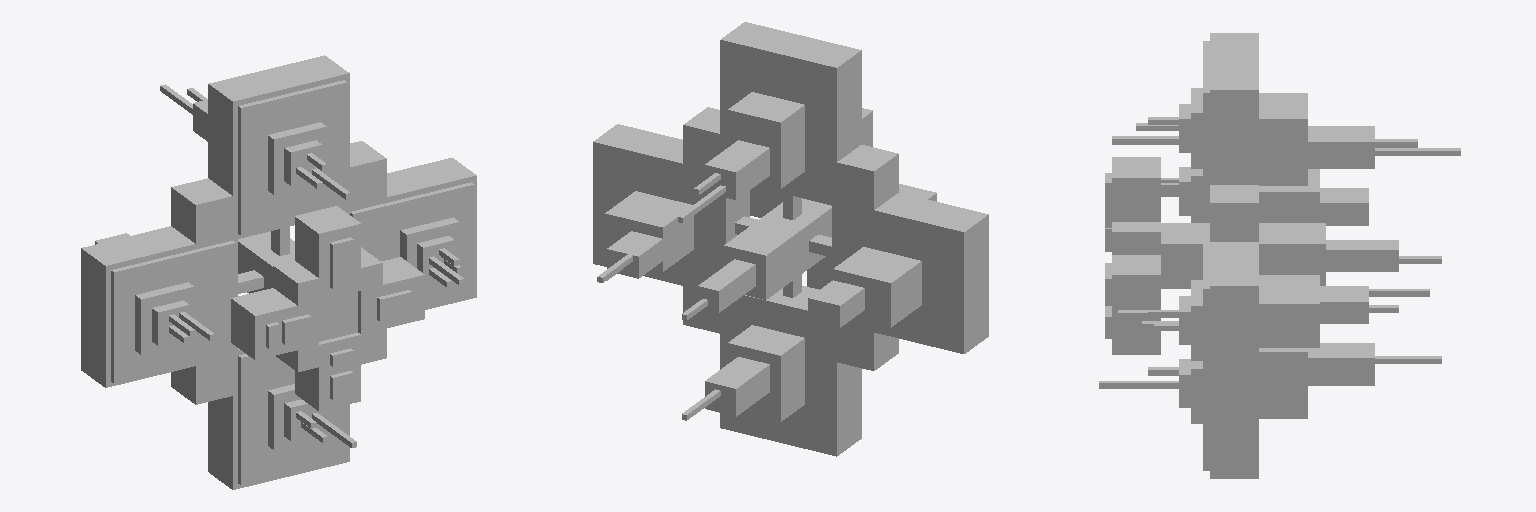
The model's file is spacestation quad.obj.
The picture shows the model from 3 angles: view 1: azimuth 30°, elevation 25°; view 2: azimuth 150°, elevation 25°; view 3: azimuth 270°, elevation 25°; orthographic projection.
Bounding box in the file's own units: 70 × 70 × 59.